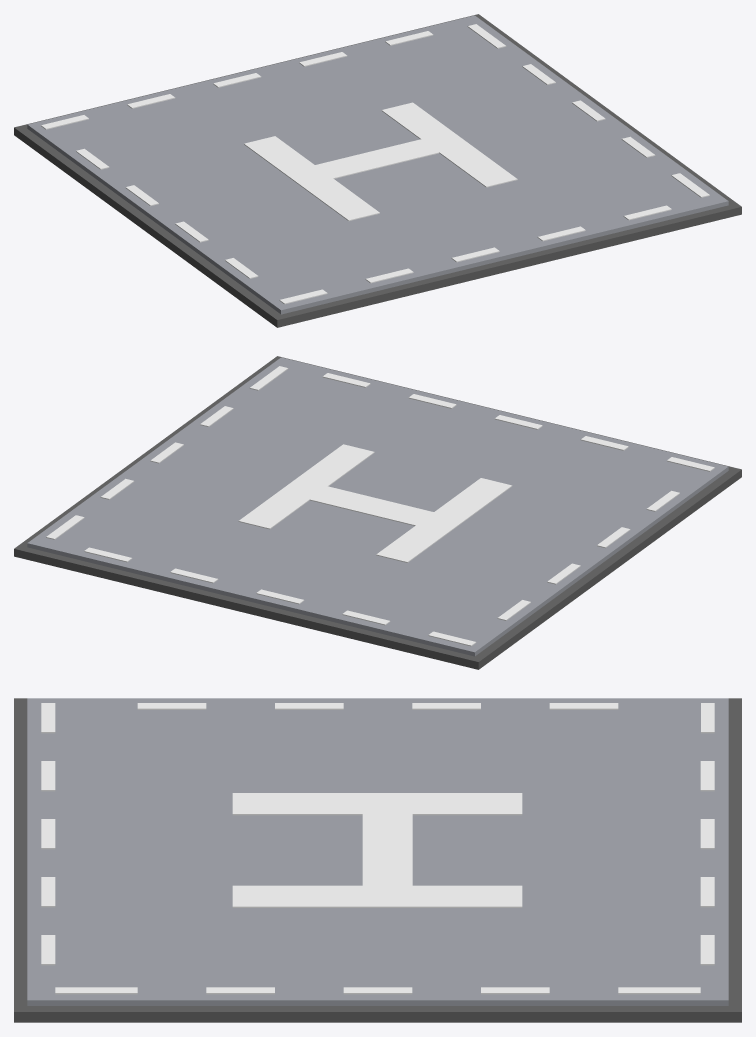
Rendered from War_HeliPark.fbx.
The picture shows the model from 3 angles, top to bottom: view 1: azimuth 30°, elevation 25°; view 2: azimuth 150°, elevation 25°; view 3: azimuth 270°, elevation 25°; orthographic projection. The views are drawn at different scales.
Visible parts, largest first — view 1: War_HeliPark; view 2: War_HeliPark; view 3: War_HeliPark.
Part boxes in pixels (box(x1,y1,x2,y2)): War_HeliPark: box(14, 14, 741, 327); War_HeliPark: box(14, 356, 741, 669); War_HeliPark: box(14, 698, 741, 1022).
Bounding box in the file's own units: 4317 × 4237 × 115.
